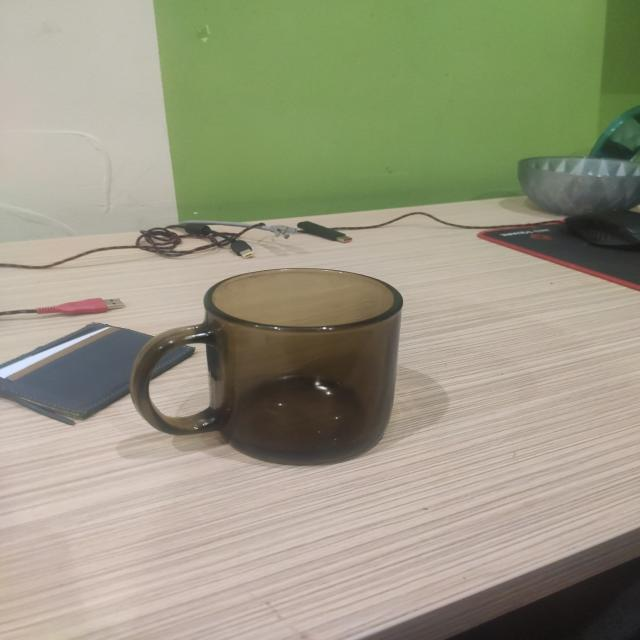cups: (130, 268, 403, 465)
